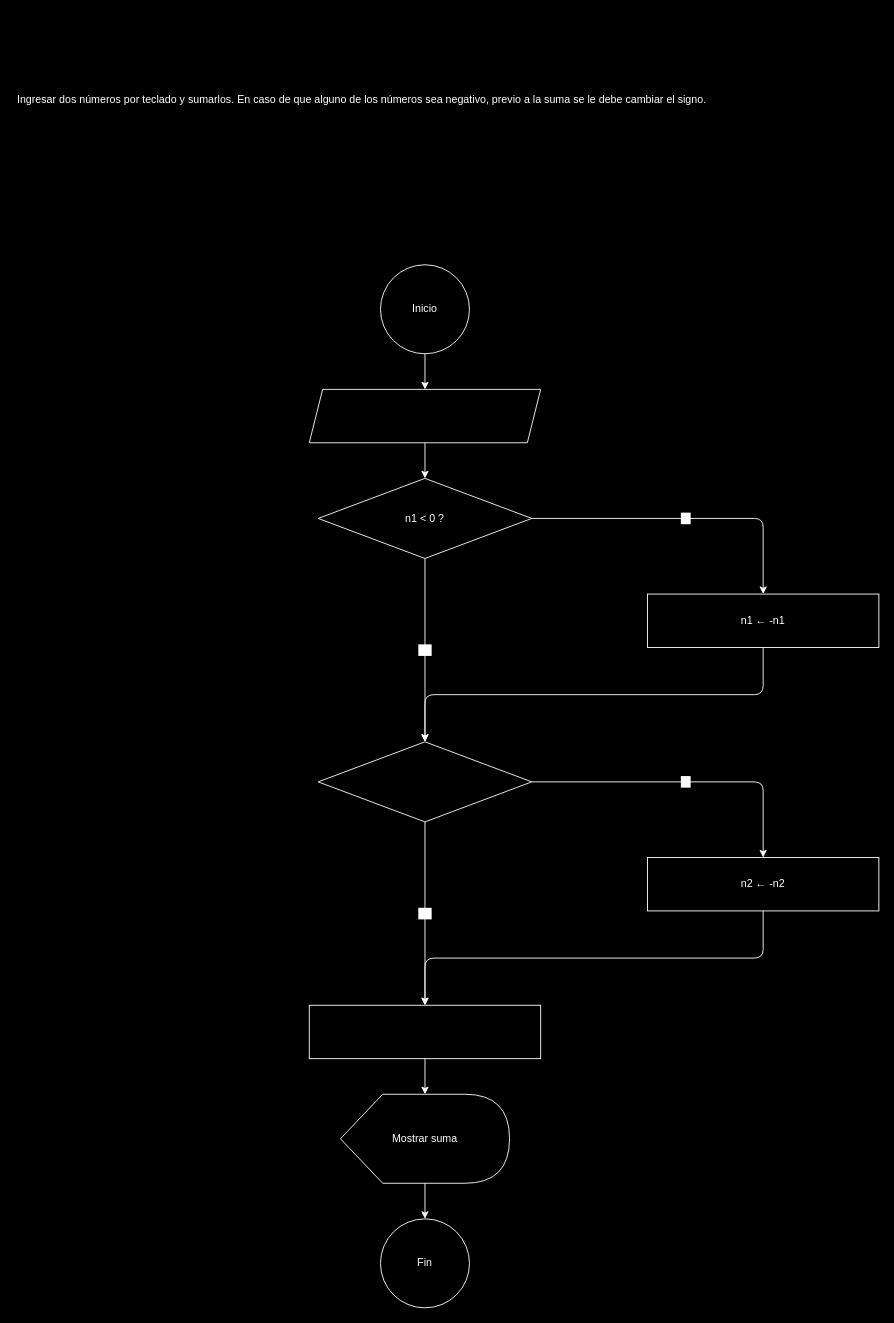
The diagram is 894 pixels wide and 1323 high, and some of its shapes have lost their labels. The shapes that lost their labels are listed below. From the top down, each one's box as (x1, y1, x2, y2) in pixels, then its label:
(308, 388, 541, 443): Leer n1, n2
(317, 741, 532, 822): n2 < 0 ?
(308, 1004, 541, 1059): suma ← n1 + n2
